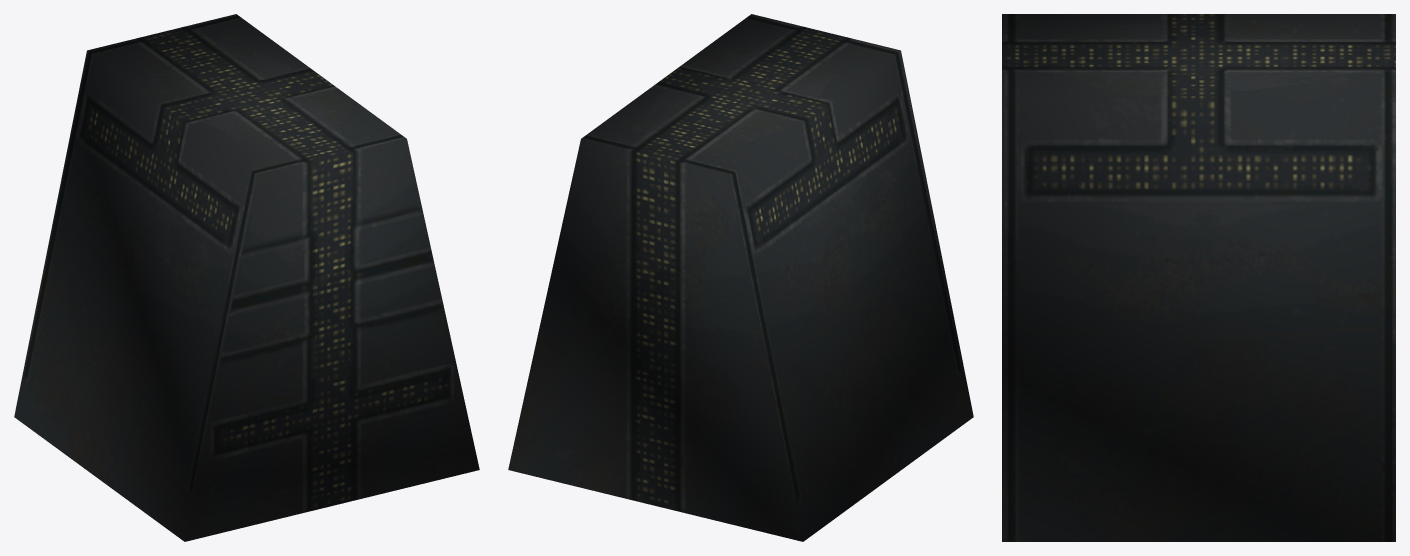
File: building-giant.glb
3 renders of one model, left to right at view 1: azimuth 30°, elevation 25°; view 2: azimuth 150°, elevation 25°; view 3: azimuth 270°, elevation 25°, orthographic. The views are drawn at different scales.
Visible parts, largest first — view 1: Cube.001; view 2: Cube.001; view 3: Cube.001.
Part boxes in pixels (box(x1,y1,x2,y2)): Cube.001: box(14, 14, 479, 541); Cube.001: box(508, 14, 973, 541); Cube.001: box(1002, 14, 1395, 541).
Size of the model in its own units: 213 by 241 by 214.
1 material, 1 textured.
